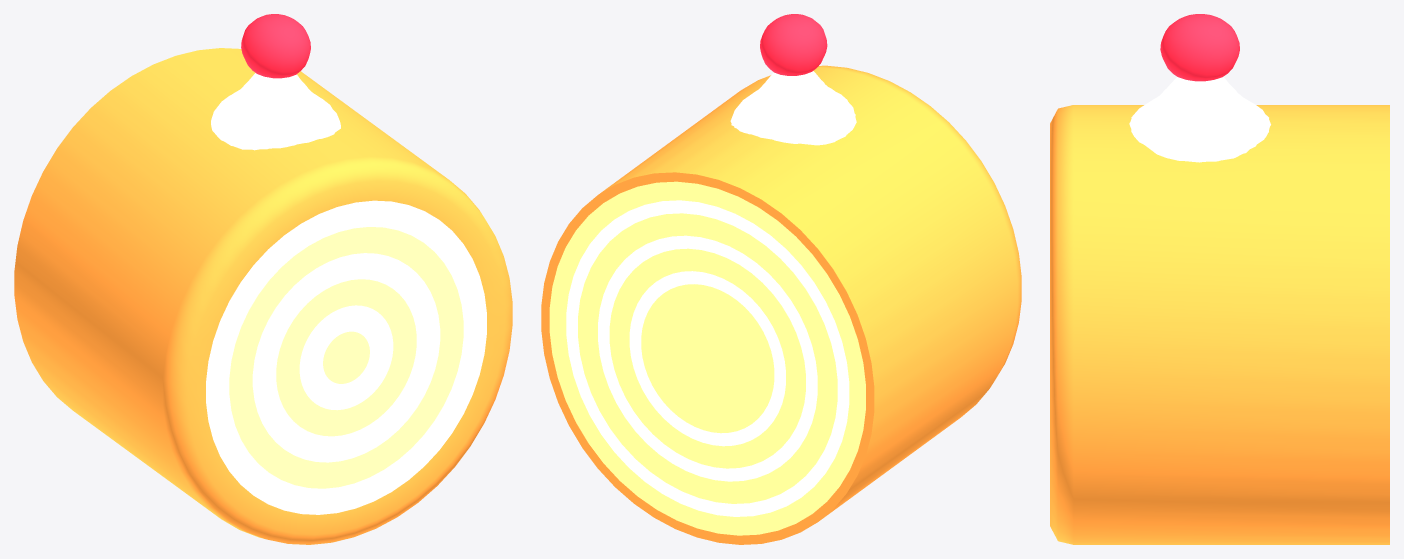
3 renders of one model, left to right at view 1: azimuth 30°, elevation 25°; view 2: azimuth 150°, elevation 25°; view 3: azimuth 270°, elevation 25°, orthographic. The views are drawn at different scales.
Visible parts, largest first — view 1: CakeRoll-left; view 2: CakeRoll-left; view 3: CakeRoll-left.
Boxes of the visible parts, x1,y1,x2,y2 form: CakeRoll-left: [14, 14, 512, 544]; CakeRoll-left: [541, 14, 1021, 544]; CakeRoll-left: [1050, 14, 1389, 544].
Size of the model in its own units: 1.71 by 2.25 by 1.37.
